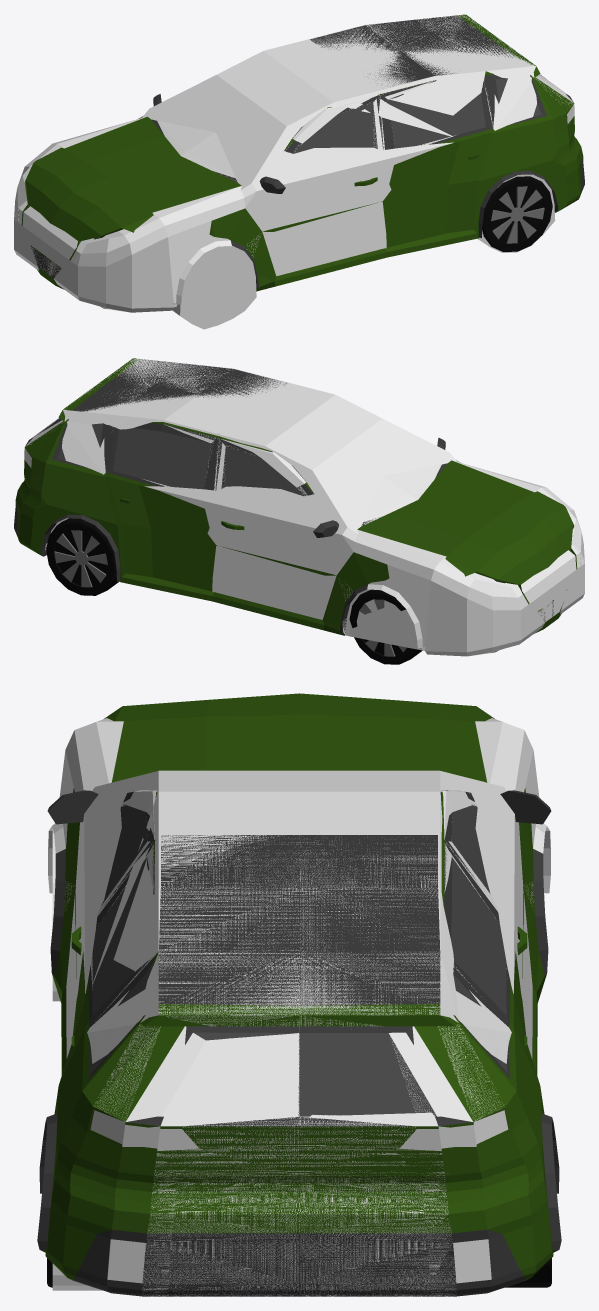
The model's file is Peugeot308.fbx.
3 renders of one model, top to bottom at view 1: azimuth 30°, elevation 25°; view 2: azimuth 150°, elevation 25°; view 3: azimuth 270°, elevation 25°, orthographic. The views are drawn at different scales.
Parts seen in each view (by area): view 1: RawSafe, Cube, PreMOdifier, Cylinder.002, Cylinder.003; view 2: Cube, RawSafe, PreMOdifier, Cylinder.003, Cylinder.001, Plane; view 3: Cube, RawSafe, PreMOdifier, Plane, Cylinder.002.
Part boxes in pixels (box(x1,y1,x2,y2)): RawSafe: box(14, 14, 574, 312); Cube: box(21, 14, 584, 308); PreMOdifier: box(17, 14, 565, 308); Cylinder.002: box(172, 174, 555, 329); Cylinder.003: box(482, 176, 552, 251); Cube: box(14, 358, 577, 652); RawSafe: box(24, 358, 584, 656); PreMOdifier: box(33, 359, 581, 652); Cylinder.003: box(46, 518, 119, 595); Cylinder.001: box(349, 589, 422, 664); Plane: box(313, 437, 445, 537); Cube: box(37, 693, 561, 1296); RawSafe: box(65, 730, 533, 1296); PreMOdifier: box(48, 718, 550, 1129); Plane: box(47, 790, 551, 824); Cylinder.002: box(52, 829, 102, 1290).
Bounding box in the file's own units: 462 × 153 × 212.
